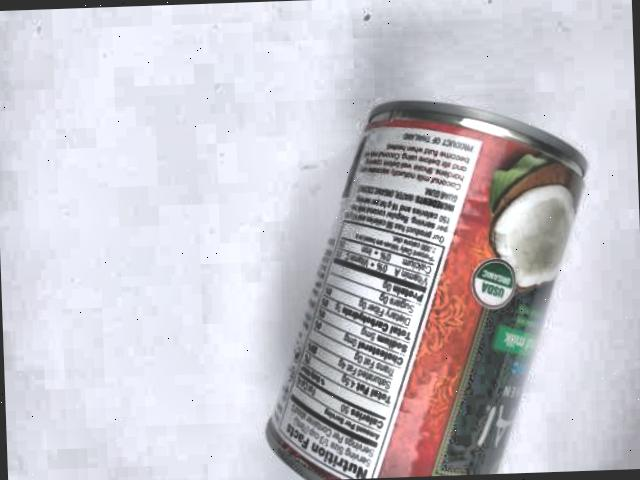Almennt: (231, 73, 619, 480)
